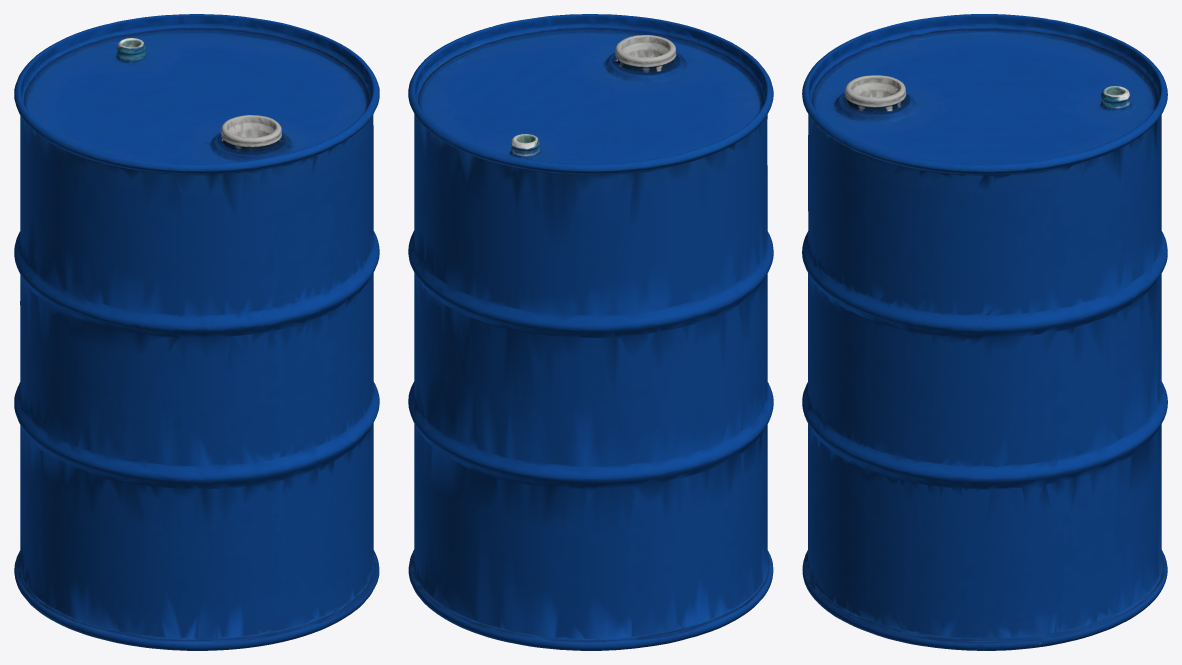
The model's file is drum.glb.
3 renders of one model, left to right at view 1: azimuth 30°, elevation 25°; view 2: azimuth 150°, elevation 25°; view 3: azimuth 270°, elevation 25°, orthographic.
Parts seen in each view (by area): view 1: tripo_node_cd73860b-45ba-438a-b54f-db8c9491c3e1; view 2: tripo_node_cd73860b-45ba-438a-b54f-db8c9491c3e1; view 3: tripo_node_cd73860b-45ba-438a-b54f-db8c9491c3e1.
Part boxes in pixels (<box>): tripo_node_cd73860b-45ba-438a-b54f-db8c9491c3e1: <box>14,14,379,650</box>; tripo_node_cd73860b-45ba-438a-b54f-db8c9491c3e1: <box>408,14,773,650</box>; tripo_node_cd73860b-45ba-438a-b54f-db8c9491c3e1: <box>802,14,1167,650</box>.
Size of the model in its own units: 0.6789 by 1 by 0.6782.
Materials: 1 (1 with a texture image).
